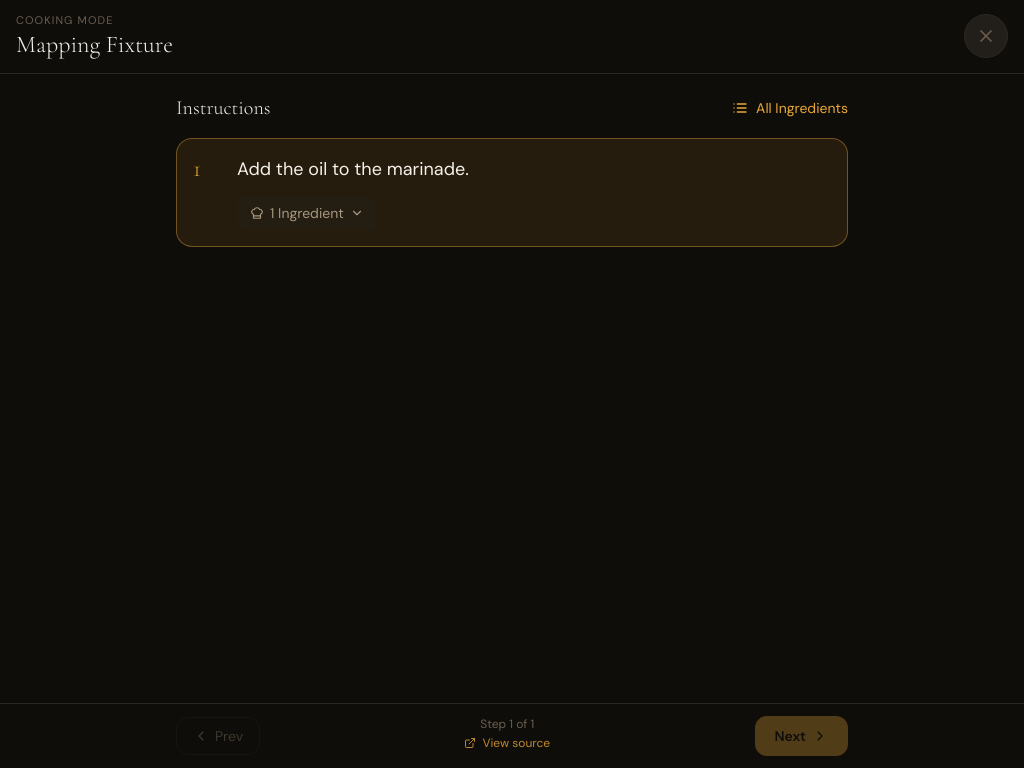
Test case: Cooking Mode mapping cutover › shows deterministic safety first, then consumes a valid AI-only persisted relationship
Click the button "1 Ingredient" at (307, 213), box x1=237 y1=196 x2=377 y2=230
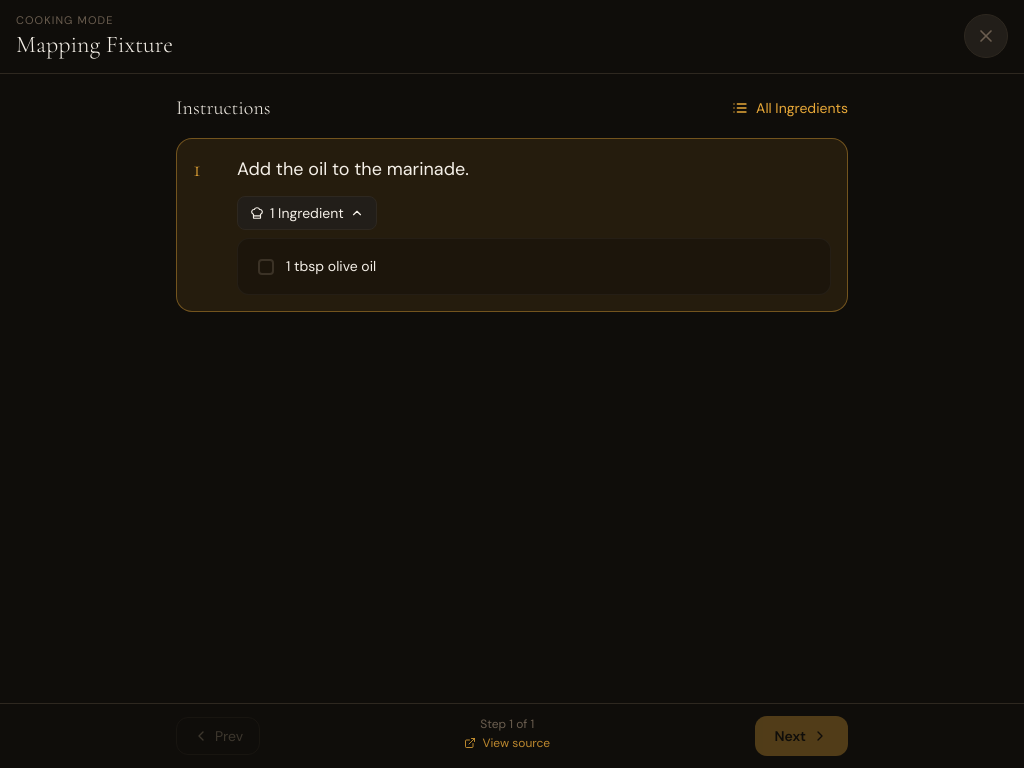
Now the button "1 tbsp olive oil" is shown, box x1=250 y1=251 x2=818 y2=282
